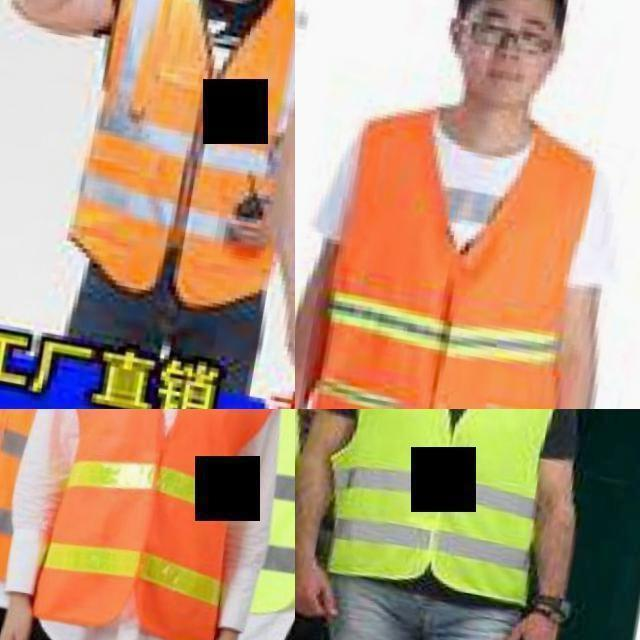vest: (310, 100, 606, 409), (81, 0, 295, 300), (20, 409, 295, 640), (329, 409, 574, 617), (0, 409, 88, 603)
